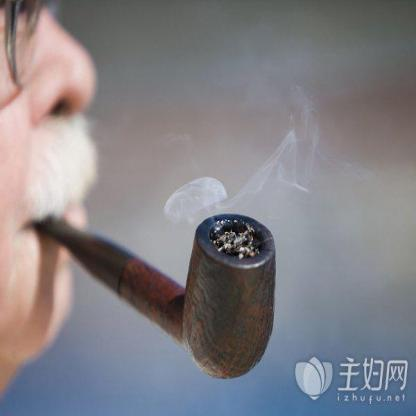smoke: (164, 133, 314, 235)
